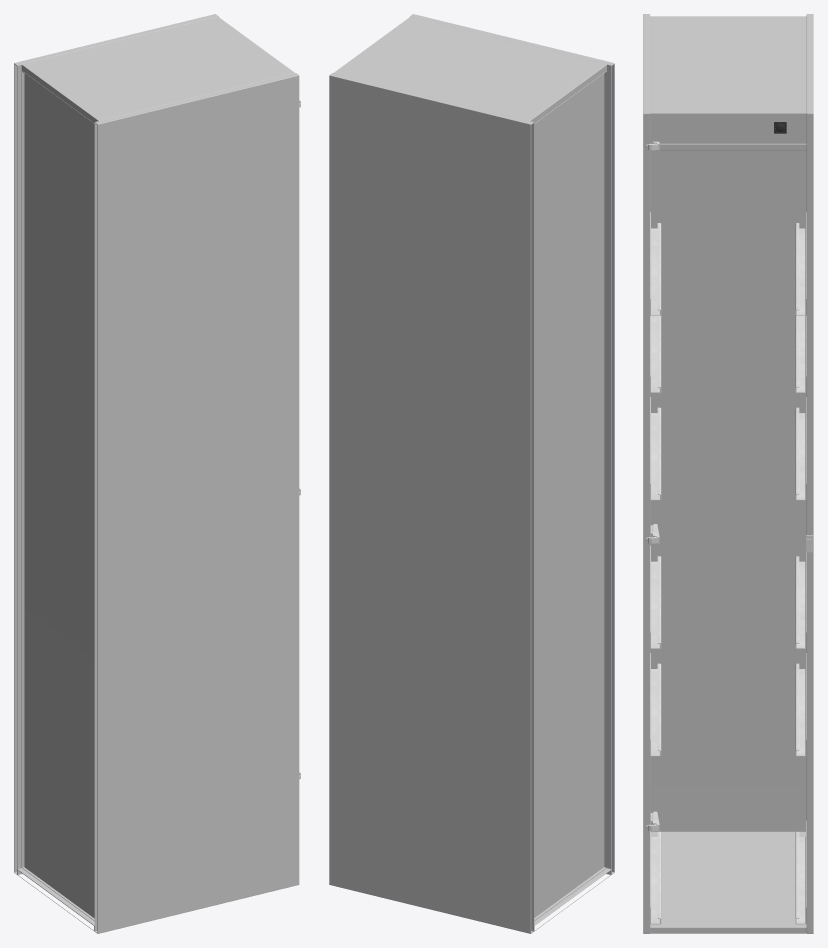
File: Kitchen02Base.fbx
The picture shows the model from 3 angles, left to right: view 1: azimuth 30°, elevation 25°; view 2: azimuth 150°, elevation 25°; view 3: azimuth 270°, elevation 25°; orthographic projection.
Visible parts, largest first — view 1: Kitchen02Base; view 2: Kitchen02Base; view 3: Kitchen02Base.
Boxes of the visible parts, <box> form: Kitchen02Base: <box>14,14,300,933</box>; Kitchen02Base: <box>329,14,614,933</box>; Kitchen02Base: <box>643,14,813,933</box>.
Size of what is drawn, in the model's own units: 56.67 by 40 by 213.
Materials: 3 (1 with a texture image).
